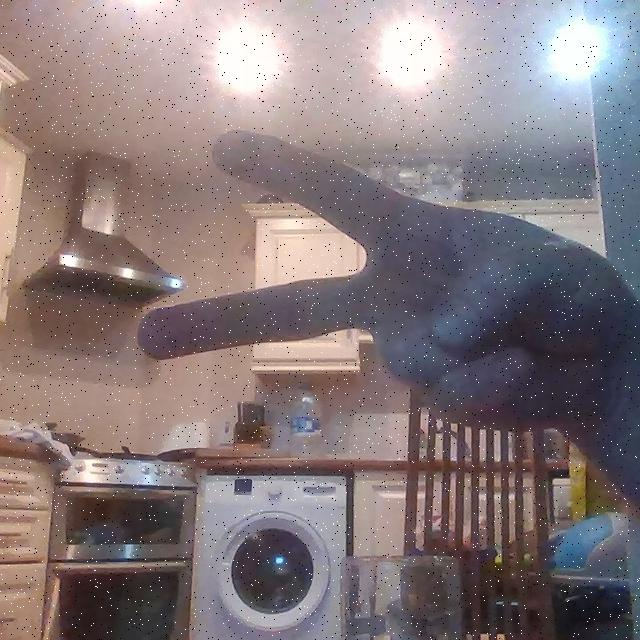scissors: (130, 130, 624, 448)
